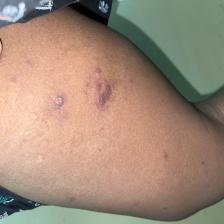DA: (44, 45, 134, 145)
